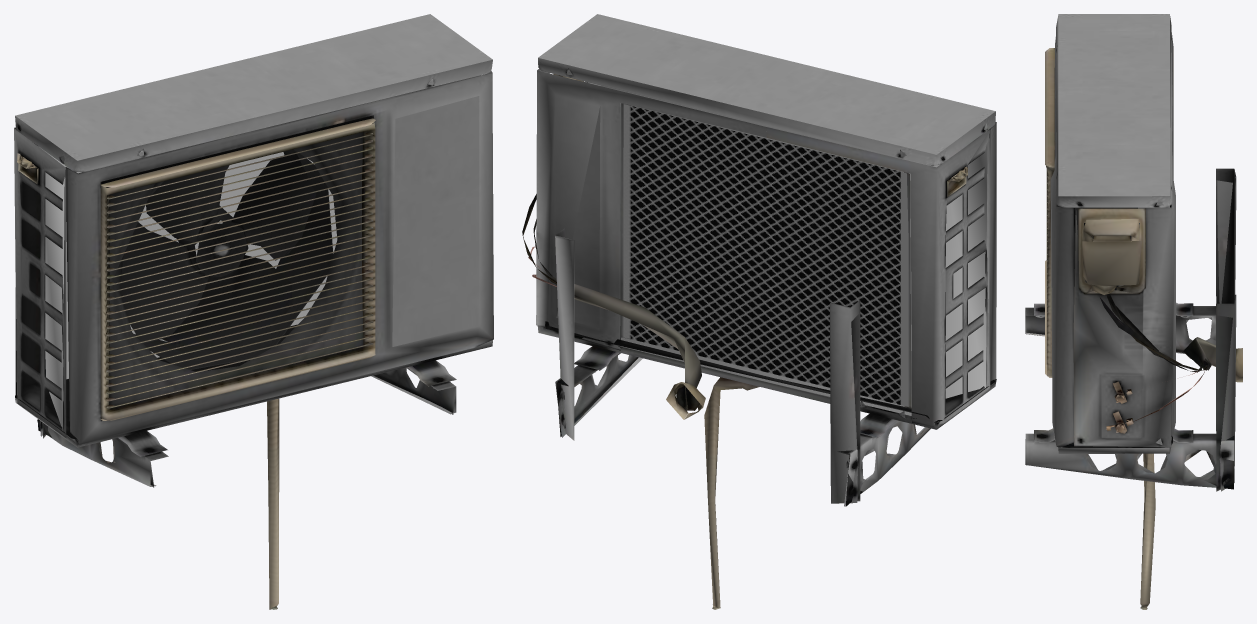
The picture shows the model from 3 angles, left to right: view 1: azimuth 30°, elevation 25°; view 2: azimuth 150°, elevation 25°; view 3: azimuth 270°, elevation 25°; orthographic projection. The views are drawn at different scales.
Parts seen in each view (by area): view 1: aircon; view 2: aircon; view 3: aircon.
Boxes of the visible parts, x1=… form: aircon: x1=14, y1=14, x2=493, y2=609; aircon: x1=522, y1=14, x2=996, y2=609; aircon: x1=1025, y1=14, x2=1242, y2=609.
Size of the model in its own units: 0.8 by 0.9265 by 0.3748.
Materials: 2 (2 with a texture image).
